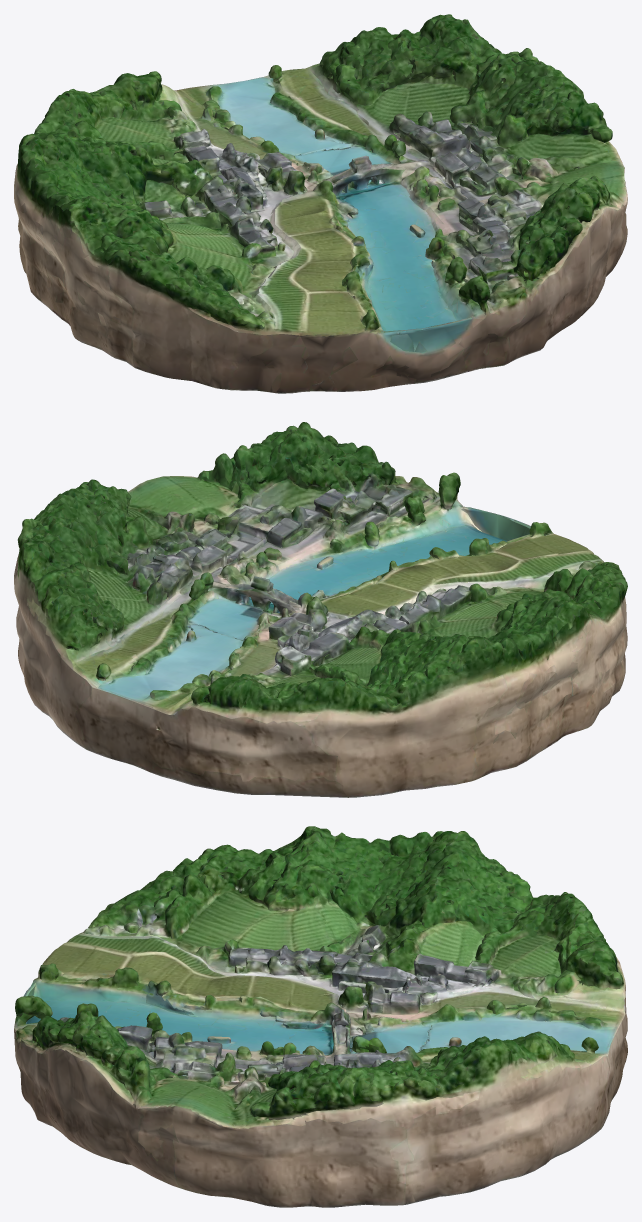
File: pujiang.min.glb
The picture shows the model from 3 angles, top to bottom: view 1: azimuth 30°, elevation 25°; view 2: azimuth 150°, elevation 25°; view 3: azimuth 270°, elevation 25°; orthographic projection.
Parts seen in each view (by area): view 1: geometry_0; view 2: geometry_0; view 3: geometry_0.
Part boxes in pixels (x1,y1,x2,y2): geometry_0: [14, 14, 627, 393]; geometry_0: [14, 422, 627, 797]; geometry_0: [14, 826, 627, 1207].
Bounding box in the file's own units: 0.5997 × 0.1544 × 0.5998.
1 material, 1 textured.
